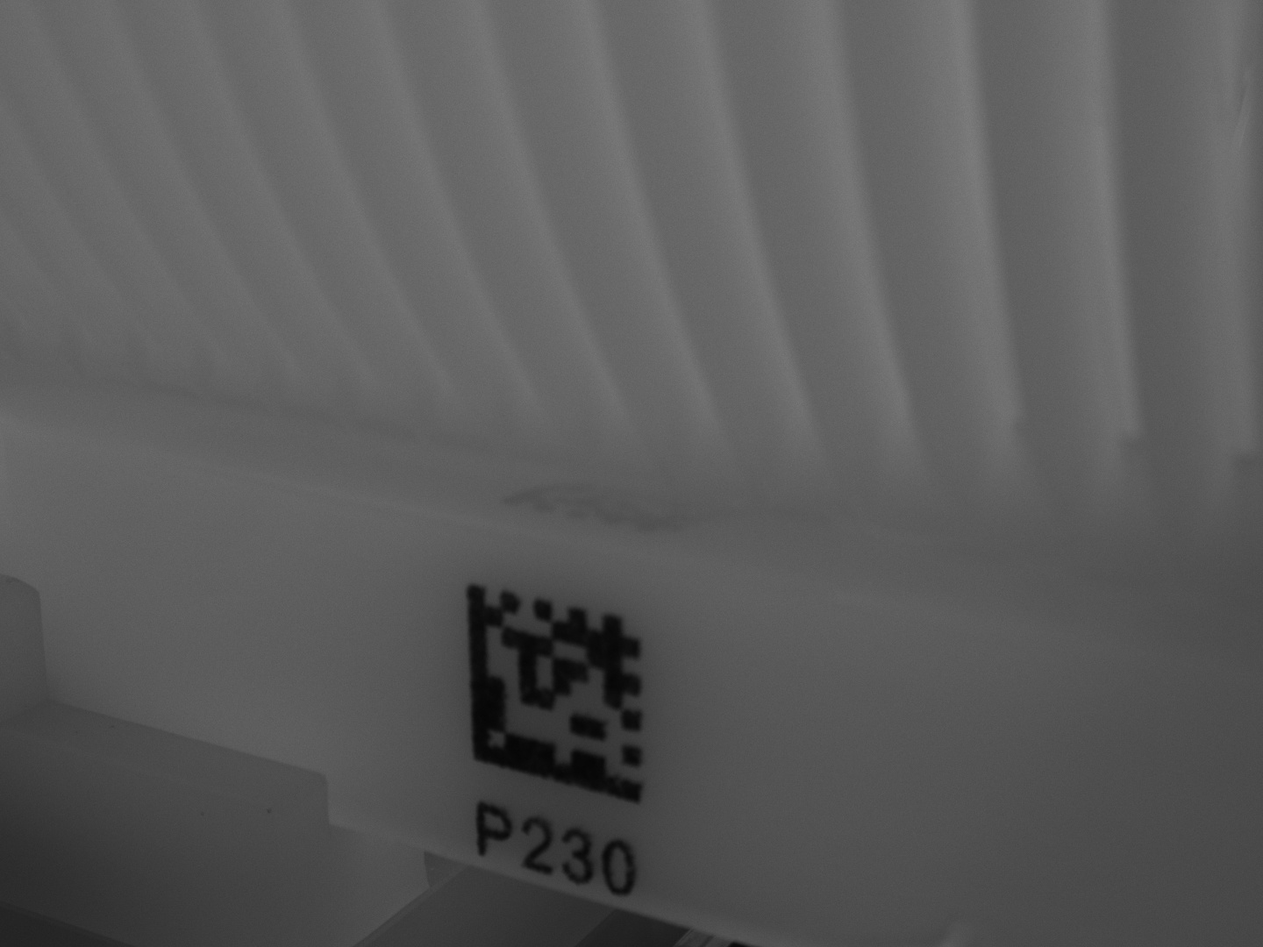datamatrix: (460, 573, 654, 809)
text: (469, 789, 640, 905)
